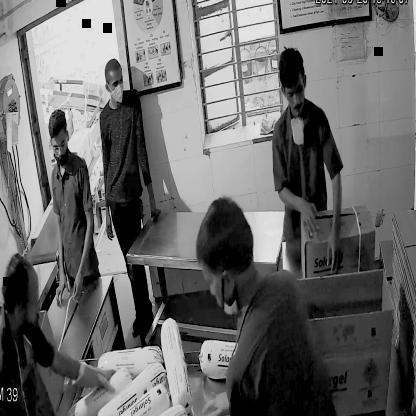goggles: (48, 137, 71, 157)
